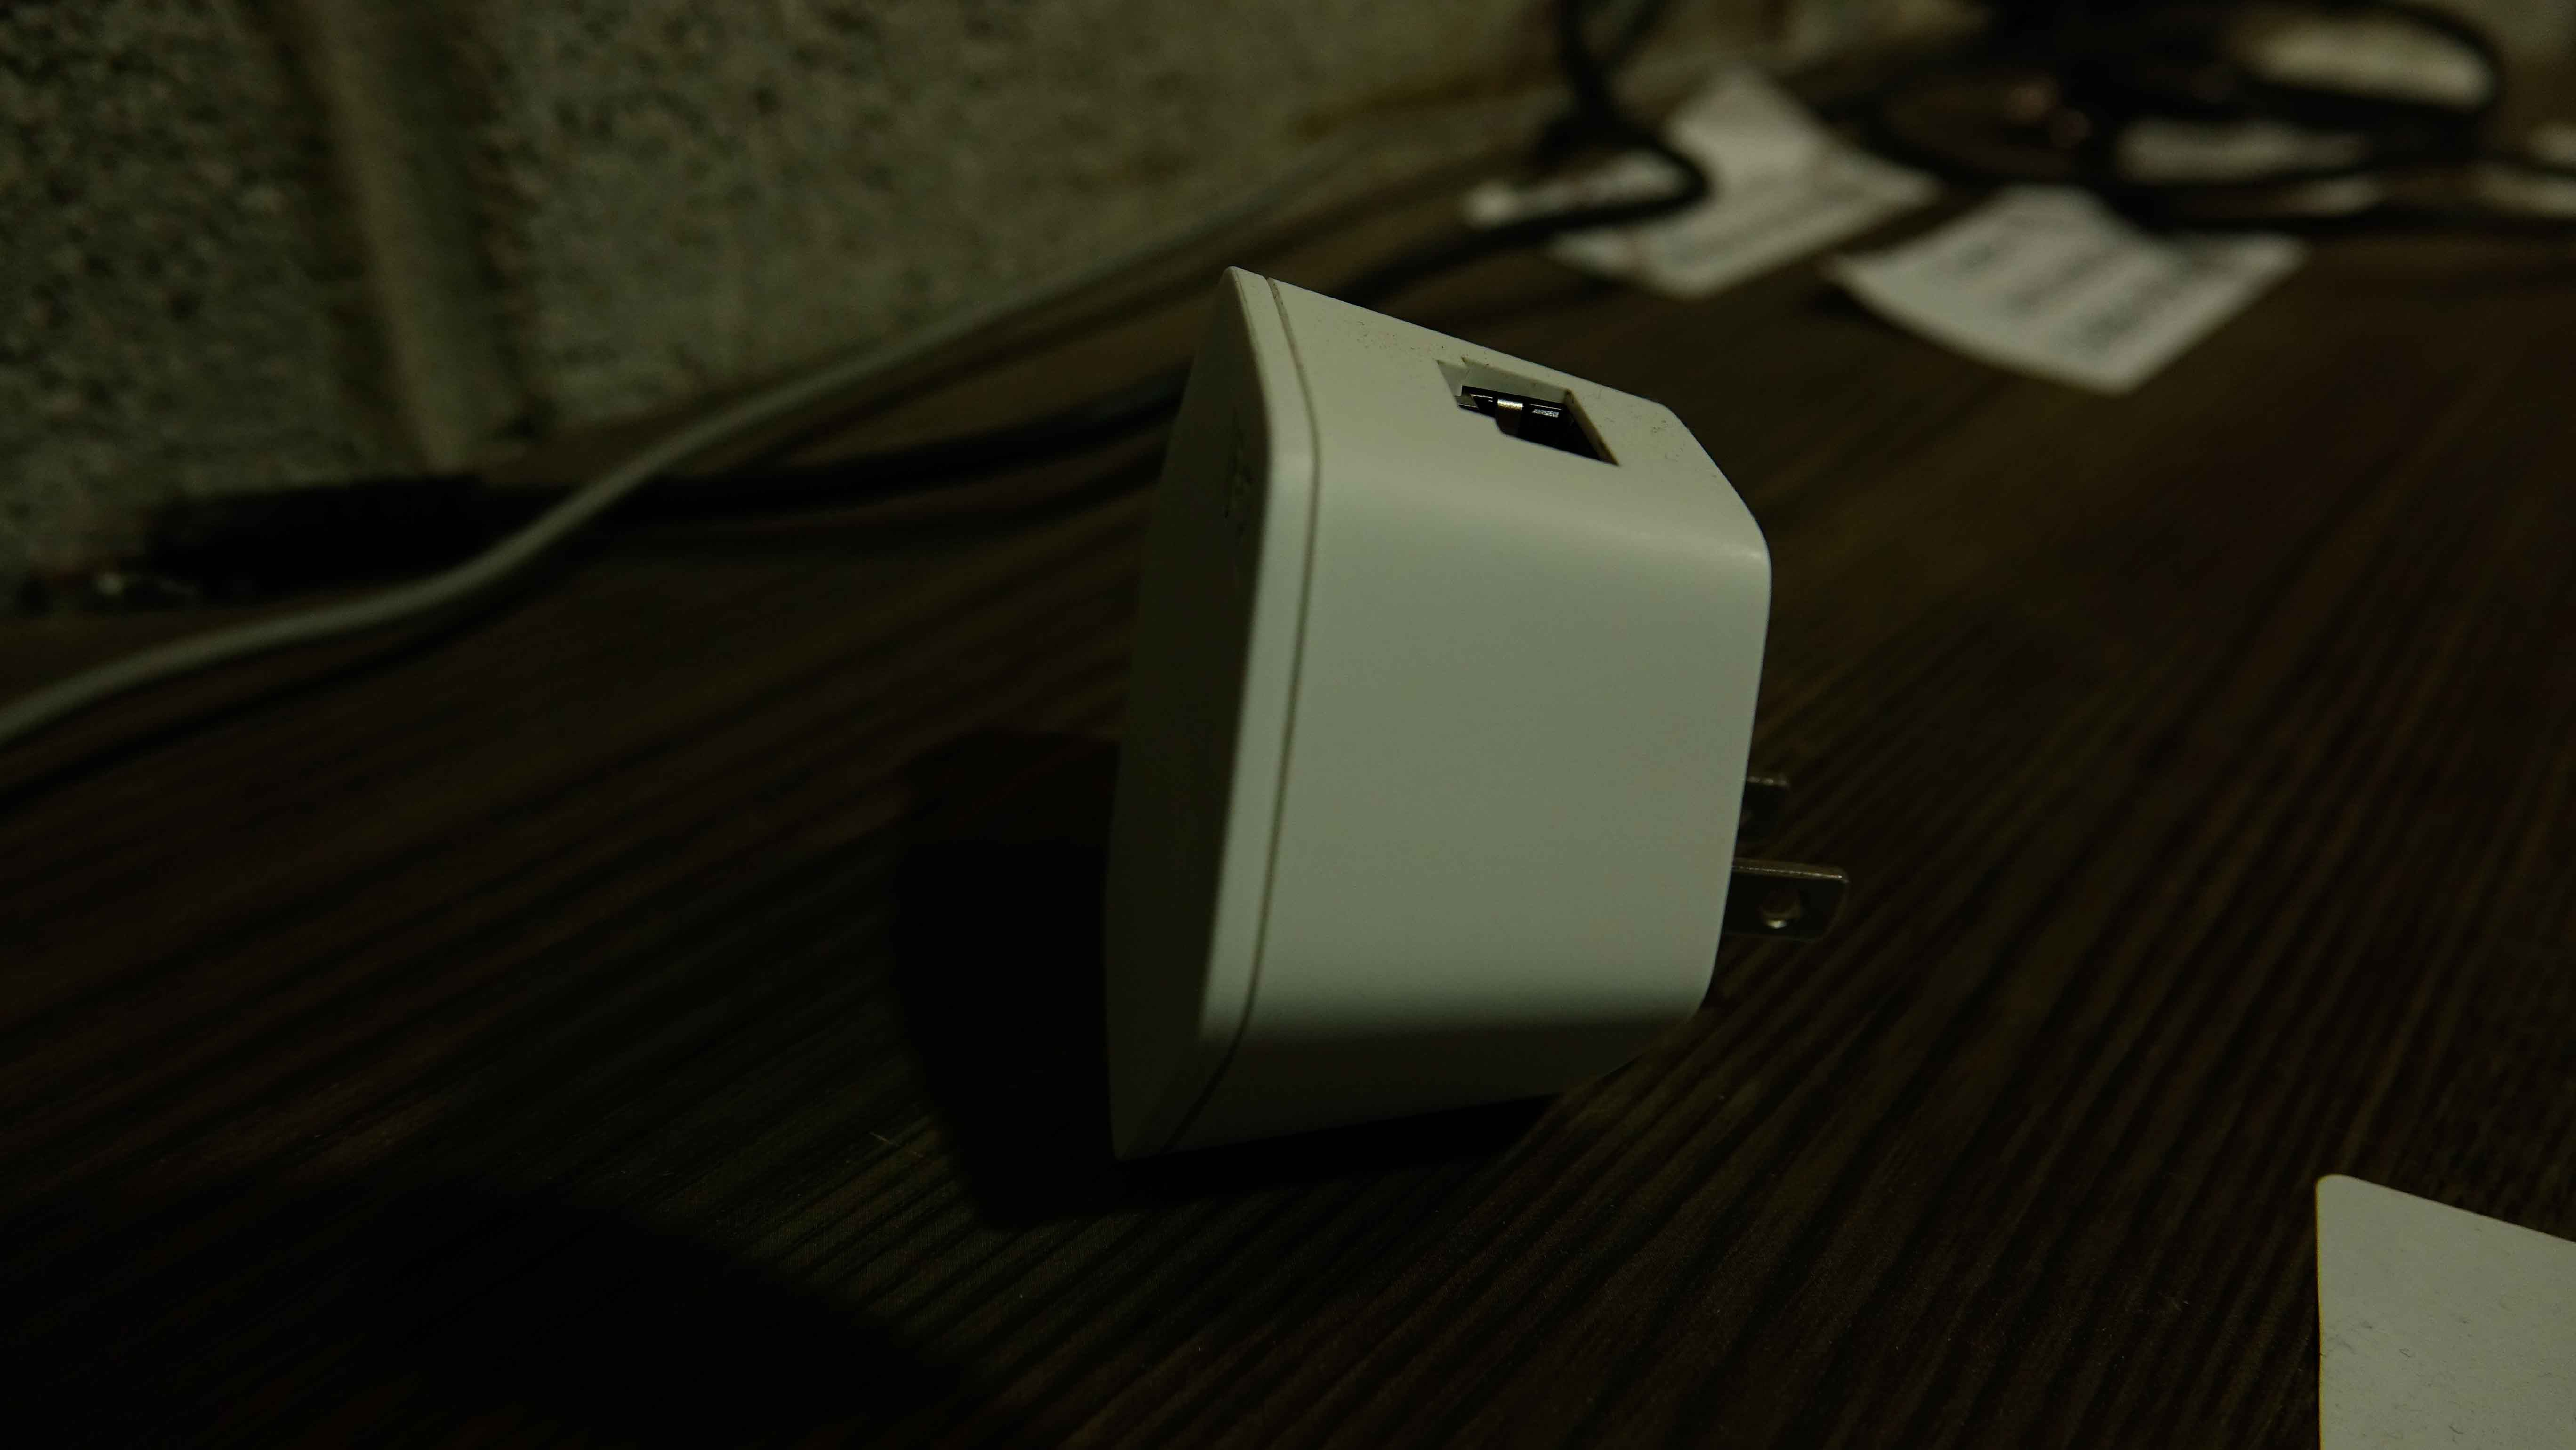pod: (1081, 255, 1870, 1179)
